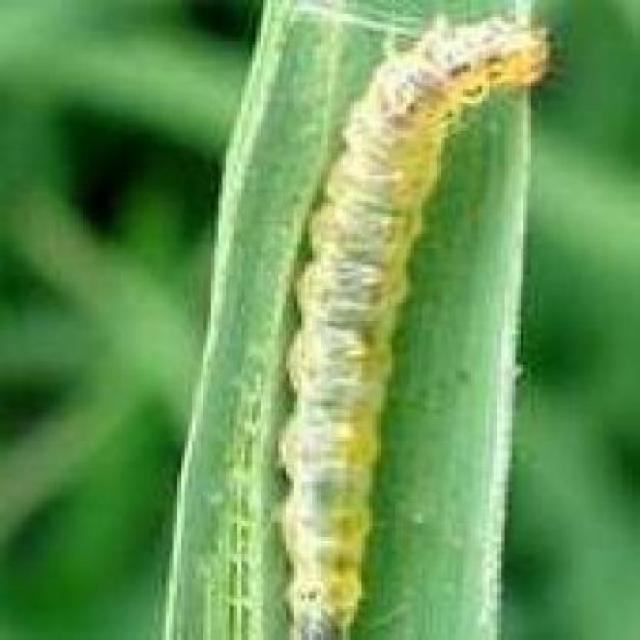leaf-folder: (242, 9, 580, 637)
